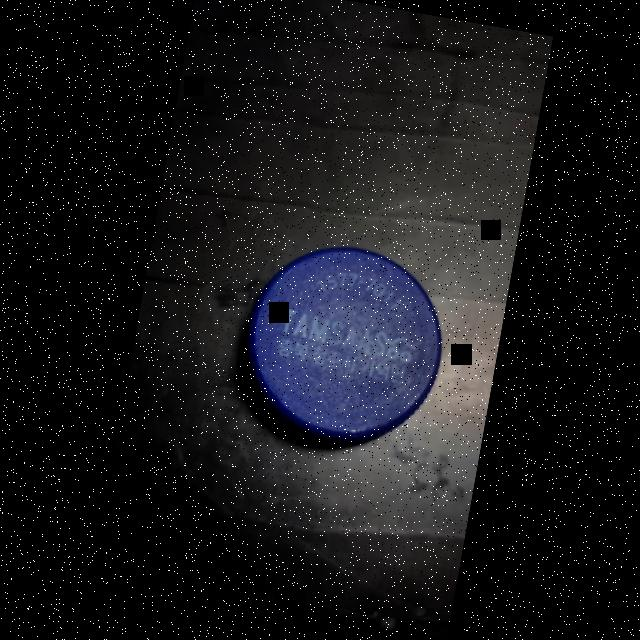plastic_bottle_cap: (216, 222, 466, 476)
